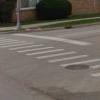Crosswalk: (7, 32, 95, 78)
